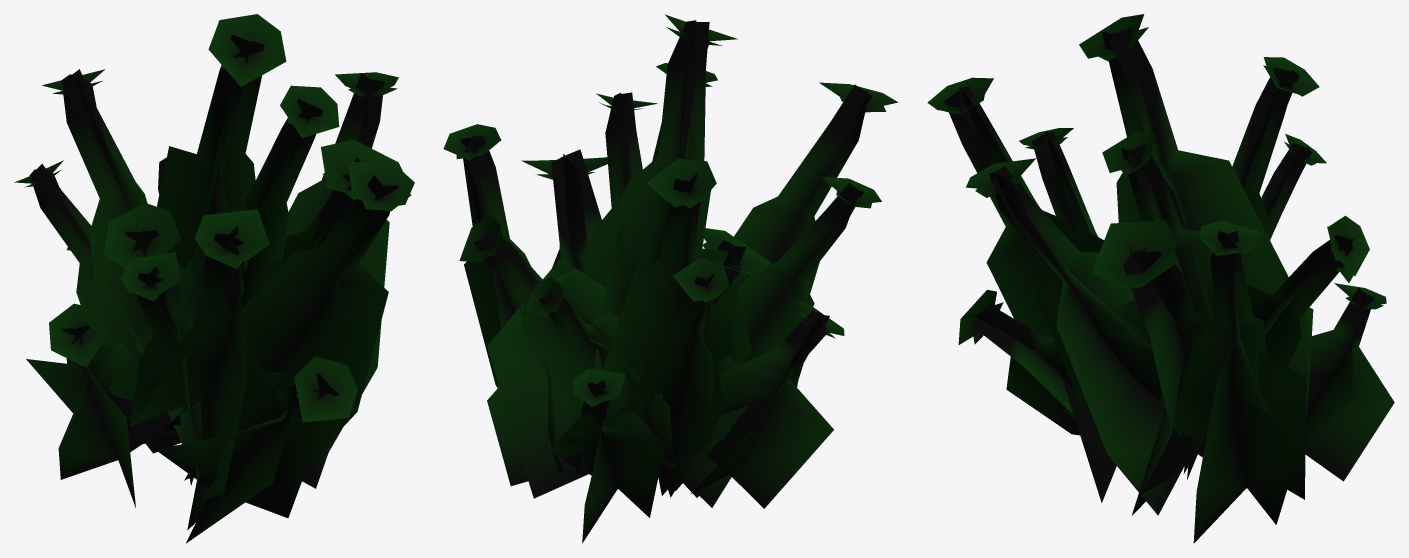
File: FlowersWTTFE-C.fbx
The picture shows the model from 3 angles, left to right: view 1: azimuth 30°, elevation 25°; view 2: azimuth 150°, elevation 25°; view 3: azimuth 270°, elevation 25°; orthographic projection. The views are drawn at different scales.
Visible parts, largest first — view 1: FlowersWTTFE-C_LOD0; view 2: FlowersWTTFE-C_LOD0; view 3: FlowersWTTFE-C_LOD0.
Boxes of the visible parts, x1,y1,x2,y2 form: FlowersWTTFE-C_LOD0: (14, 14, 414, 543); FlowersWTTFE-C_LOD0: (443, 14, 898, 543); FlowersWTTFE-C_LOD0: (927, 14, 1394, 543).
Size of what is drawn, in the model's own units: 85.48 by 108 by 94.49.
